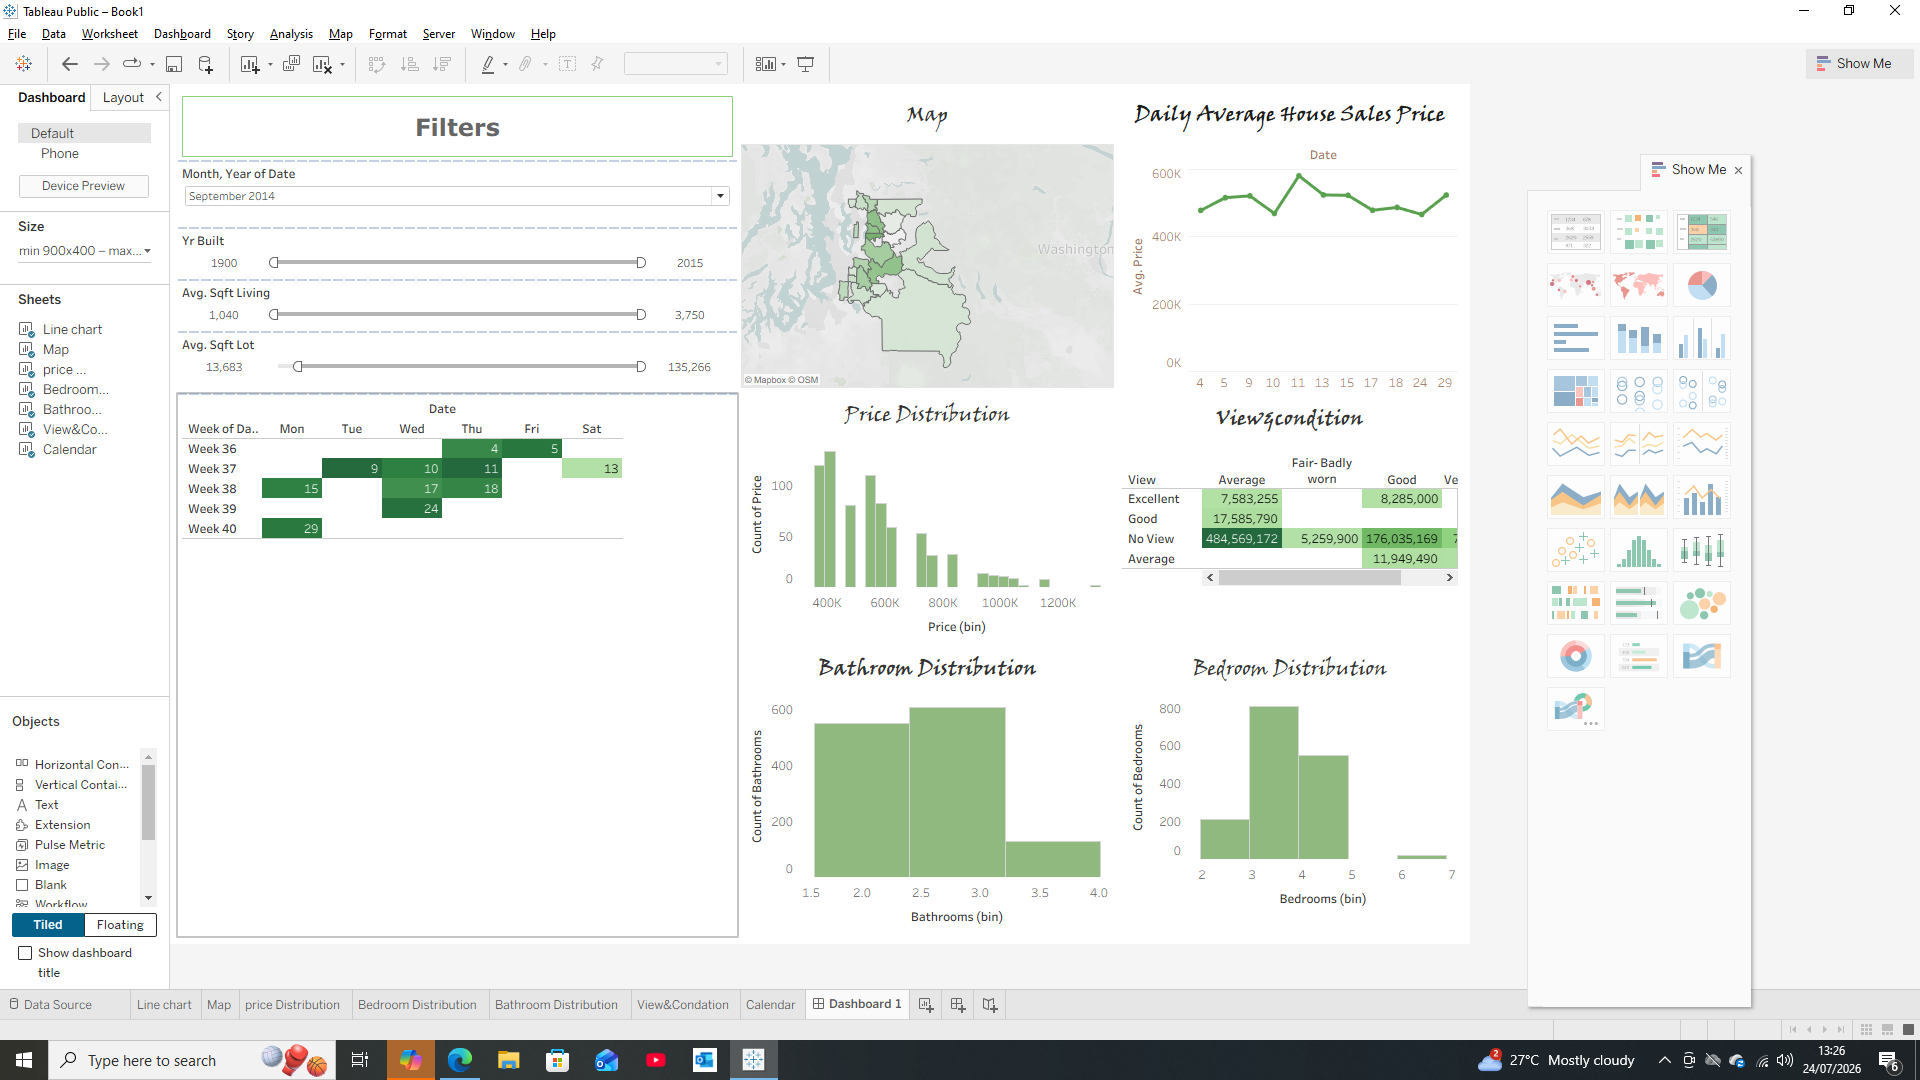

The page's visual inventory and layout, read from the dashboard file:
{"tool":"tableau","page":{"name":"Dashboard 1","canvas":[1000,1000],"units":"permille","ordinal":0},"visuals":[{"type":"text","box":[6.2,9.3,430,80.2]},{"type":"worksheet","title":"Map","mark":"Automatic","box":[436.2,9.3,293.5,348.8]},{"type":"worksheet","title":"Line chart","mark":"Line","rows":["price"],"cols":["date"],"box":[729.6,9.3,264.2,353.1]},{"type":"filter","title":"Calendar","param":"[federated.07s91ni09cb6ia1ak8ub21azffmt].[my:date:ok]","box":[6.2,89.5,430,77.9]},{"type":"filter","title":"Calendar","param":"[federated.07s91ni09cb6ia1ak8ub21azffmt].[none:yr_built:qk]","box":[6.2,167.4,430,60.5]},{"type":"filter","title":"Calendar","param":"[federated.07s91ni09cb6ia1ak8ub21azffmt].[avg:sqft_living:qk]","box":[6.2,227.9,430,60.5]},{"type":"filter","title":"Calendar","param":"[federated.07s91ni09cb6ia1ak8ub21azffmt].[avg:sqft_lot:qk]","box":[6.2,288.4,430,72.1]},{"type":"worksheet","title":"price Distribution","mark":"Automatic","rows":["price"],"cols":["Price (bin)"],"box":[436.2,358.1,293.5,295.4]},{"type":"worksheet","title":"Calendar","mark":"Square","rows":["date"],"cols":["date"],"box":[6.2,360.5,430,630.2]},{"type":"worksheet","title":"View&Condation","mark":"Square","rows":["view"],"cols":["condition"],"box":[729.6,362.4,264.2,291.1]},{"type":"worksheet","title":"Bathroom Distribution","mark":"Automatic","rows":["bathrooms"],"cols":["Bathrooms (bin)"],"box":[436.2,653.5,293.5,337.2]},{"type":"worksheet","title":"Bedroom Distribution","mark":"Automatic","rows":["bedrooms"],"cols":["Bedrooms (bin)"],"box":[729.6,653.5,264.2,316.3]}]}

Visuals, with their boxes on the dashboard's canvas, which has no fixed pixel size, in thousandths of its width and height (x1, y1, x2, y2). These are canvas units, not pixel positions in the 1920x1080 screenshot, which may show the page scaled, cropped or inside an application window:
text: x1=6, y1=9, x2=436, y2=90
"Map" worksheet: x1=436, y1=9, x2=730, y2=358
"Line chart" worksheet (Line marks): x1=730, y1=9, x2=994, y2=362
"Calendar" filter: x1=6, y1=90, x2=436, y2=167
"Calendar" filter: x1=6, y1=167, x2=436, y2=228
"Calendar" filter: x1=6, y1=228, x2=436, y2=288
"Calendar" filter: x1=6, y1=288, x2=436, y2=360
"price Distribution" worksheet: x1=436, y1=358, x2=730, y2=654
"Calendar" worksheet (Square marks): x1=6, y1=360, x2=436, y2=991
"View&Condation" worksheet (Square marks): x1=730, y1=362, x2=994, y2=654
"Bathroom Distribution" worksheet: x1=436, y1=654, x2=730, y2=991
"Bedroom Distribution" worksheet: x1=730, y1=654, x2=994, y2=970
